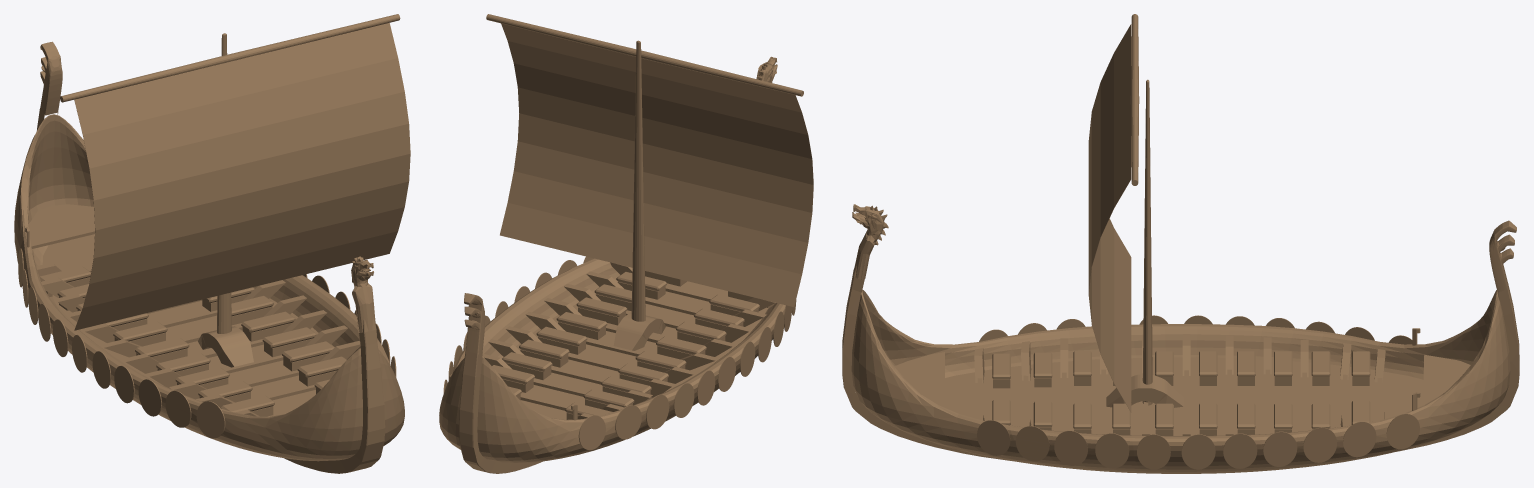
File: flotta_barbara.glb
3 renders of one model, left to right at view 1: azimuth 30°, elevation 25°; view 2: azimuth 150°, elevation 25°; view 3: azimuth 270°, elevation 25°, orthographic. The views are drawn at different scales.
Visible parts, largest first — view 1: cube1_default14.002_6; view 2: cube1_default14.002_6; view 3: cube1_default14.002_6.
Part boxes in pixels (box(x1,y1,x2,y2)): cube1_default14.002_6: box(14, 14, 410, 473); cube1_default14.002_6: box(439, 14, 813, 473); cube1_default14.002_6: box(842, 14, 1519, 473).
Bounding box in the file's own units: 1.4 × 1.51 × 2.42.
